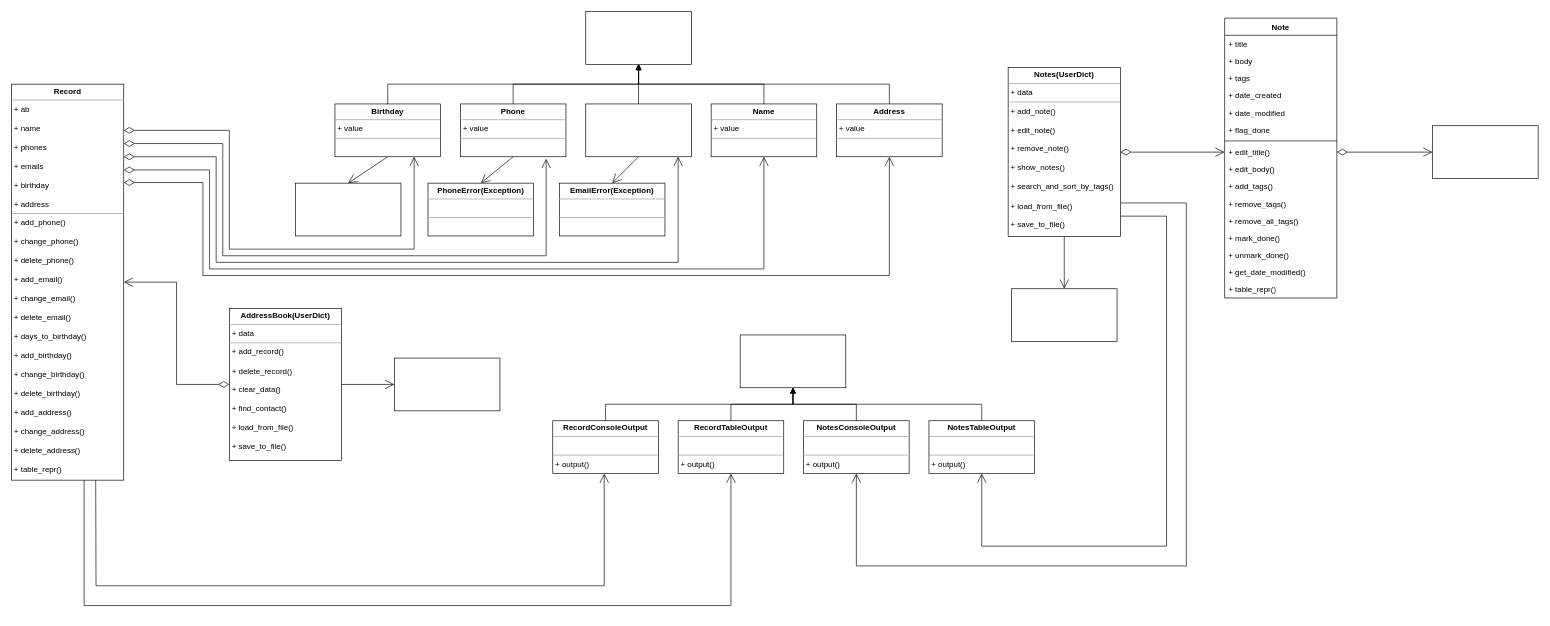
The diagram is 1550 pixels wide and 626 high, and some of its shapes have lost their labels. Each missing label, with the centre of its shape:
"ABIterator" belongs at [447,384].
"BirthdayError(Exception)" belongs at [348,209].
"Email + value" belongs at [638,130].
"Field + value" belongs at [638,37].
"IDError(Exception)" belongs at [1064,315].
"OutputAbstract(ABC) + output()" belongs at [793,361].
"Tag + tag" belongs at [1485,152].
